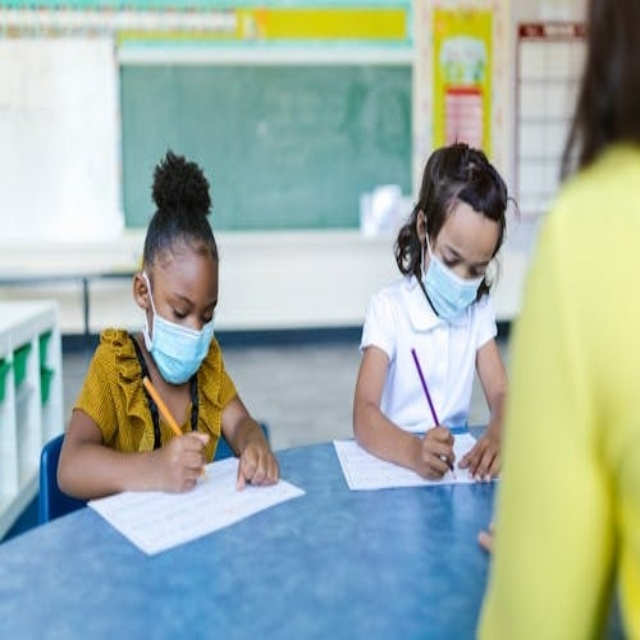Mascara: (140, 274, 217, 383), (419, 229, 487, 322)
Sin_gafas: (436, 234, 493, 283), (161, 283, 224, 327)
Sin_guantes: (157, 425, 212, 496), (230, 434, 284, 494), (457, 429, 499, 482), (419, 421, 454, 480)
